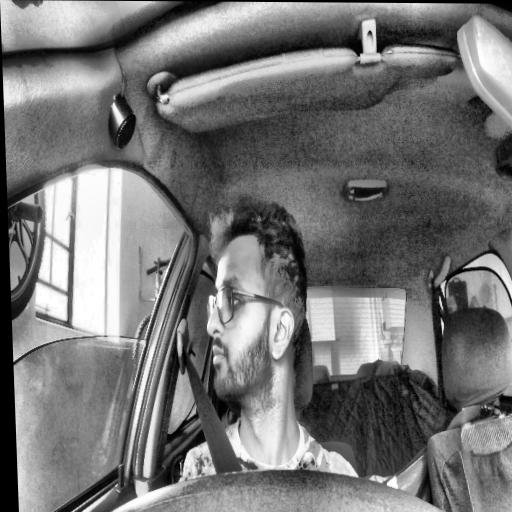awake: (203, 200, 311, 403)
